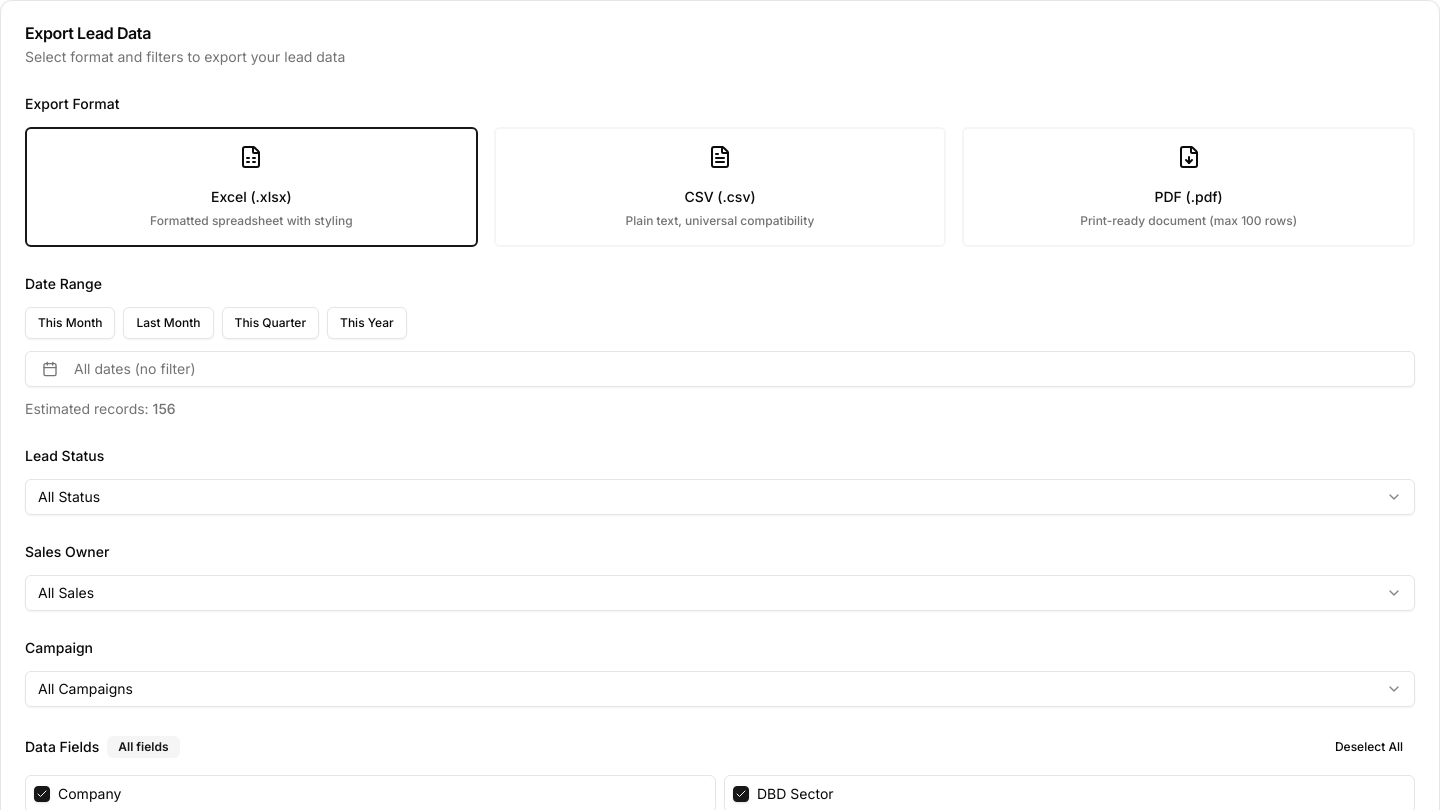
it: ExportForm - Date Range Integration (Story 6.4) › AC#1: Quick Date Presets › clicking a preset fills in the date range
Click the button with test id "preset-thisMonth".
click(70, 323)  # box [25,307,116,339]
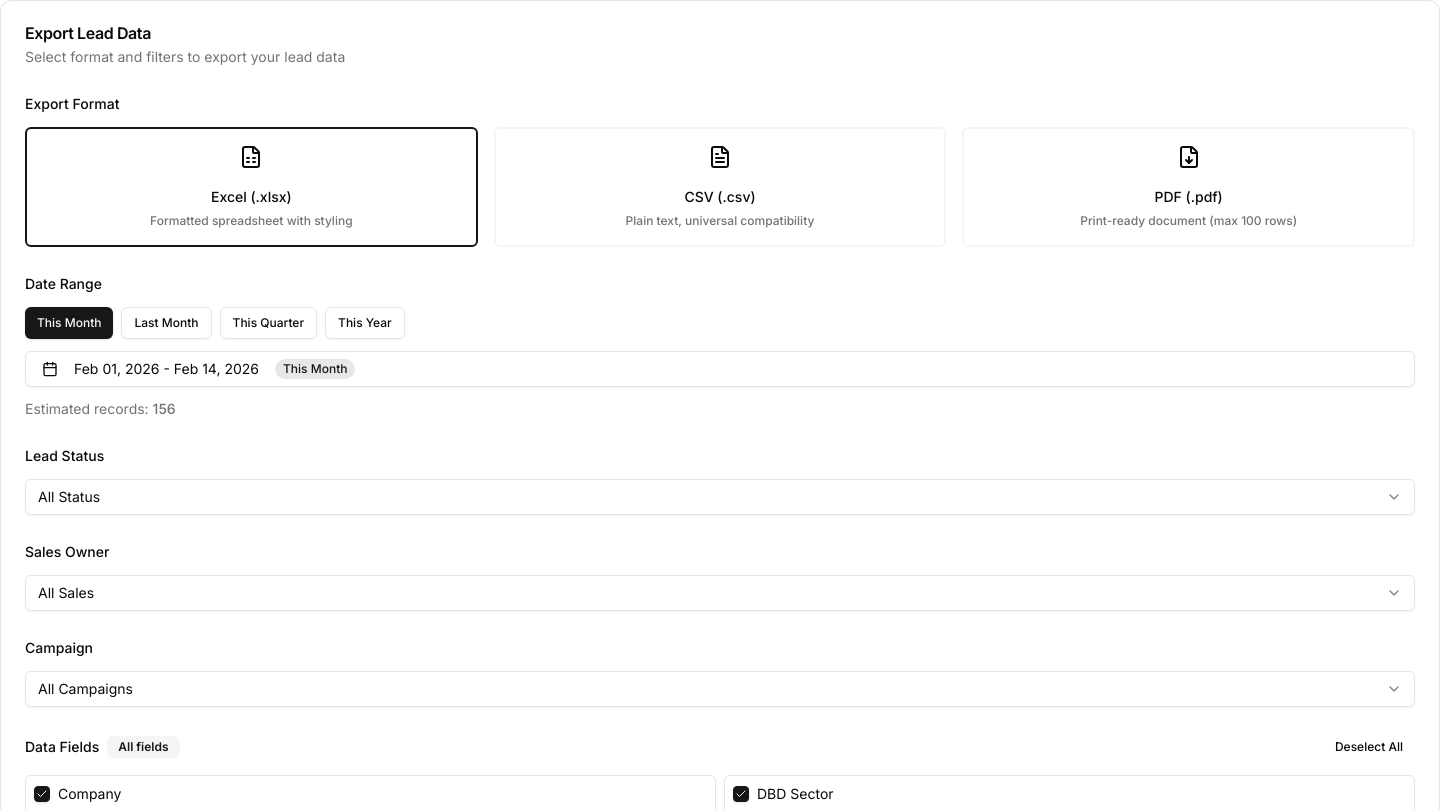
expect the button with test id "date-range-trigger" no longer shows "All dates (no filter)": met, box [25,351,1415,387]
